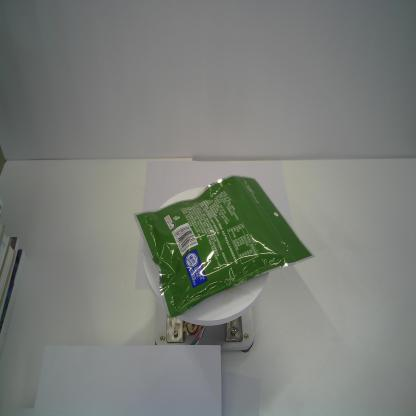Dried Fruit: (131, 172, 317, 320)
